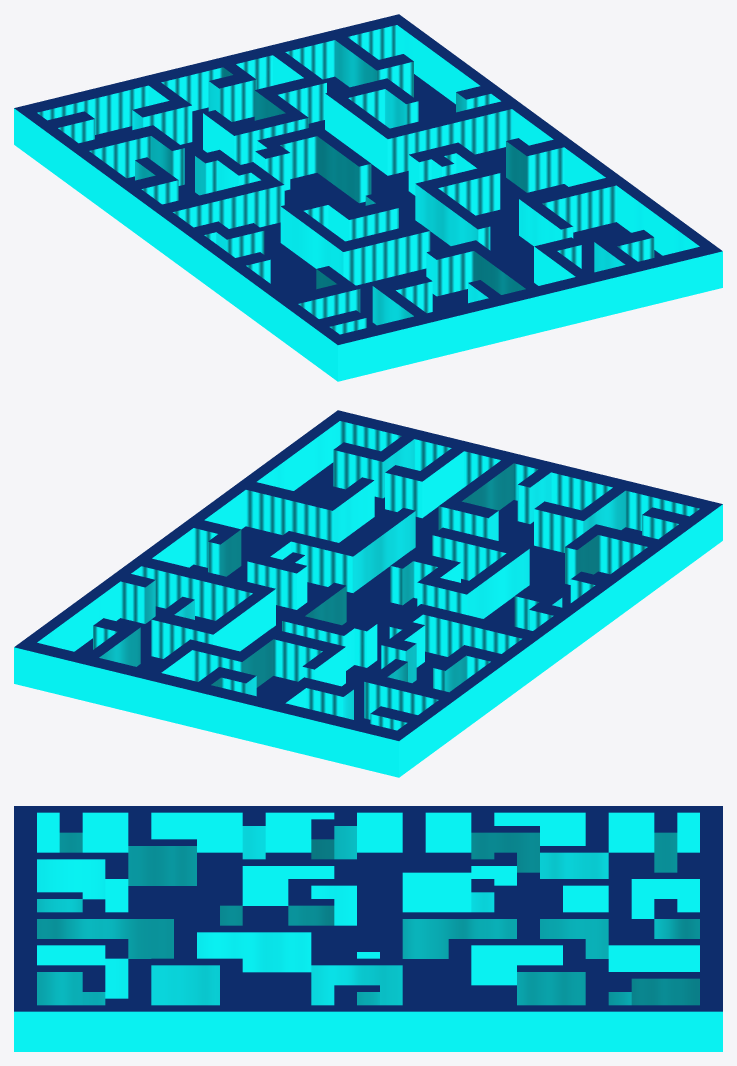
File: maze.fbx
The picture shows the model from 3 angles, top to bottom: view 1: azimuth 30°, elevation 25°; view 2: azimuth 150°, elevation 25°; view 3: azimuth 270°, elevation 25°; orthographic projection. The views are drawn at different scales.
Visible parts, largest first — view 1: Plane.001, Plane, FLoor; view 2: Plane.001, Plane, FLoor; view 3: Plane.001, Plane, FLoor.
Part boxes in pixels (x1,y1,x2,y2): Plane.001: (14, 25, 722, 381); Plane: (14, 14, 722, 344); FLoor: (95, 74, 662, 327); Plane.001: (14, 421, 722, 777); Plane: (14, 410, 722, 740); FLoor: (74, 462, 641, 723); Plane.001: (14, 812, 722, 1051); Plane: (14, 806, 722, 1011); FLoor: (82, 852, 699, 1005).
Bounding box in the file's own units: 12438 × 1128 × 18121.
